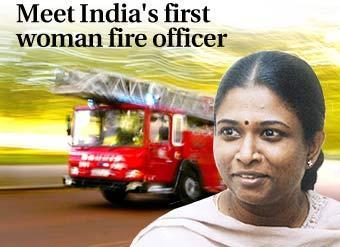ambulance: (54, 68, 231, 194)
